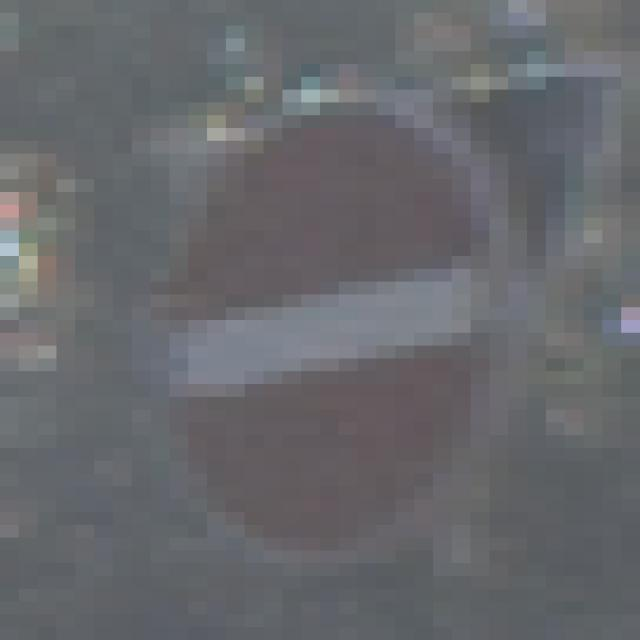No Entry: (95, 78, 547, 577)
